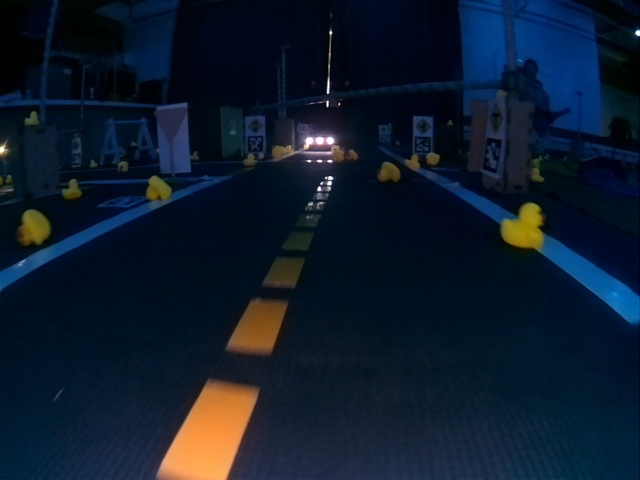Duckie: (500, 203, 541, 250), (20, 209, 50, 247), (146, 176, 172, 201), (380, 162, 401, 182), (62, 178, 81, 199), (24, 111, 38, 126), (405, 155, 420, 168), (426, 152, 440, 165), (243, 154, 255, 165), (190, 151, 199, 161)
Duckiebot: (305, 132, 336, 150)
Intersection sign: (488, 102, 504, 134), (415, 118, 431, 134)
QR code: (482, 138, 500, 175), (99, 197, 147, 207), (414, 137, 431, 153), (248, 135, 263, 151)
Signal sign: (247, 118, 263, 133)
